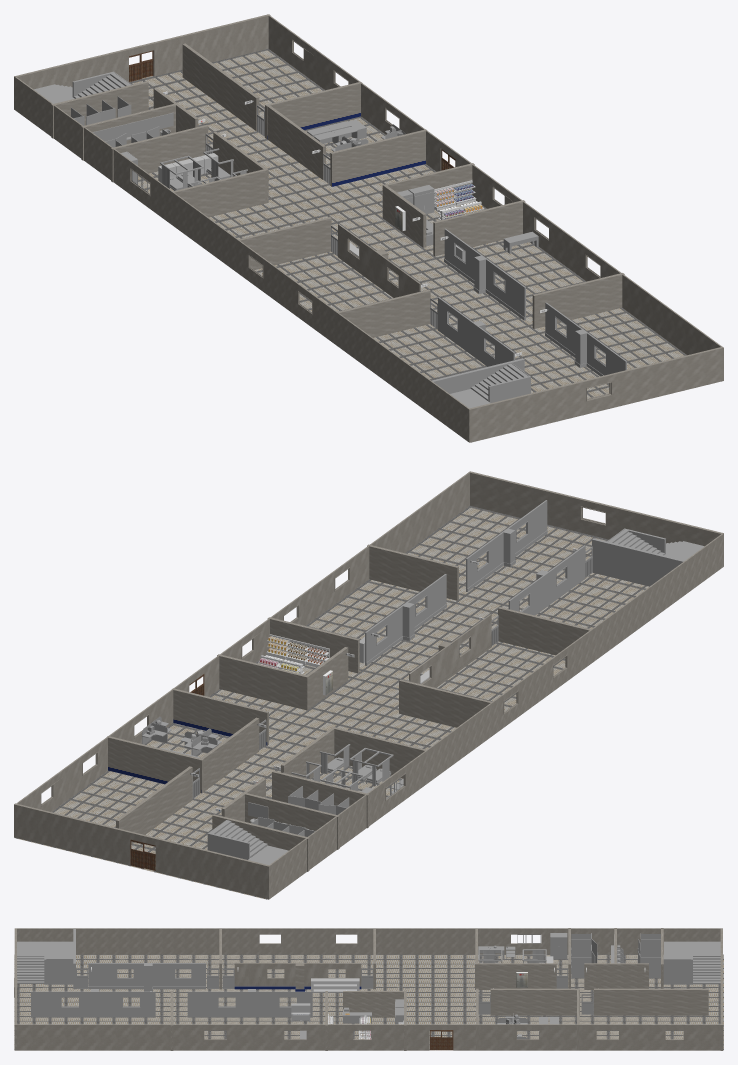
The picture shows the model from 3 angles, top to bottom: view 1: azimuth 30°, elevation 25°; view 2: azimuth 150°, elevation 25°; view 3: azimuth 270°, elevation 25°; orthographic projection. The views are drawn at different scales.
Visible parts, largest first — view 1: floor, pPlane2, pasted__front, pasted__side, side2, pCube127, pCube124, pCube125, pPlane22, pCube68, pCube135, pCube351 (+17 smaller); view 2: floor, pPlane2, pasted__front, side2, pasted__side, pCube126, pCube124, pCube127, pCube351, pPlane27, pPlane22, pCube68 (+16 smaller); view 3: floor, pasted__front, pPlane2, pCube135, pPlane27, pPlane26, pPlane22, pPlane24, pCube134, pCube137, pCube136, pCube133 (+17 smaller).
Part boxes in pixels (x1,y1,x2,y2): floor: (129,48,721,442); pPlane2: (15,77,469,442); pasted__front: (267,14,721,355); pasted__side: (469,346,723,442); side2: (14,14,270,109); pCube127: (330,130,425,186); pCube124: (532,273,624,328); pCube125: (433,200,525,256); pPlane22: (444,228,525,320); pCube68: (239,217,331,269); pCube135: (182,43,259,130); pCube351: (265,82,361,138); floor: (15,505,648,899); pPlane2: (269,533,723,898); pasted__front: (14,471,470,837); side2: (14,803,270,899); pasted__side: (469,471,723,546); pCube126: (217,654,308,710); pCube124: (367,544,458,600); pCube127: (172,688,268,745); pCube351: (107,736,203,793); pPlane27: (466,500,547,591); pPlane22: (365,574,446,665); pCube68: (399,679,491,727); floor: (14,954,723,1050); pasted__front: (15,1024,723,1050); pPlane2: (15,928,720,954); pCube135: (594,988,708,1015); pPlane27: (31,989,155,1017); pPlane26: (88,963,205,991); pPlane22: (187,989,312,1017); pPlane24: (234,963,361,991); pCube134: (490,988,579,1015); pCube137: (475,963,556,989); pCube136: (584,963,648,989); pCube133: (343,991,405,1017).
Size of the model in its own units: 2410 by 300 by 7437.
